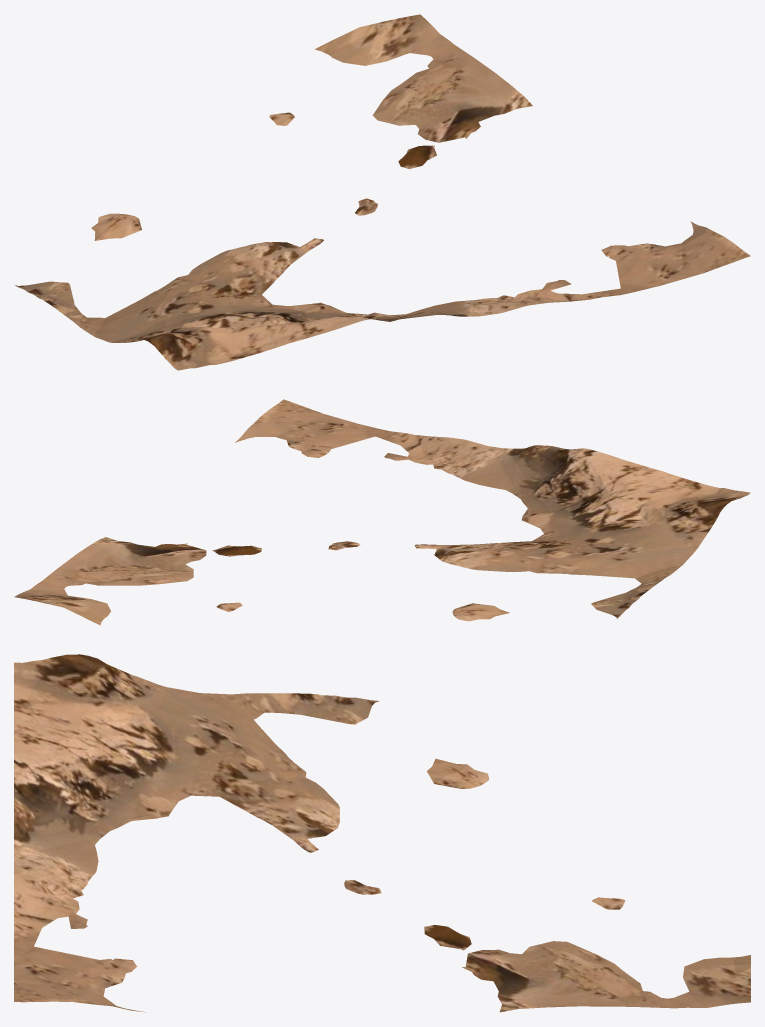
The picture shows the model from 3 angles, top to bottom: view 1: azimuth 30°, elevation 25°; view 2: azimuth 150°, elevation 25°; view 3: azimuth 270°, elevation 25°; orthographic projection. The views are drawn at different scales.
Size of the model in its own units: 1.04 by 0.0729 by 1.04.
1 material, 1 textured.
